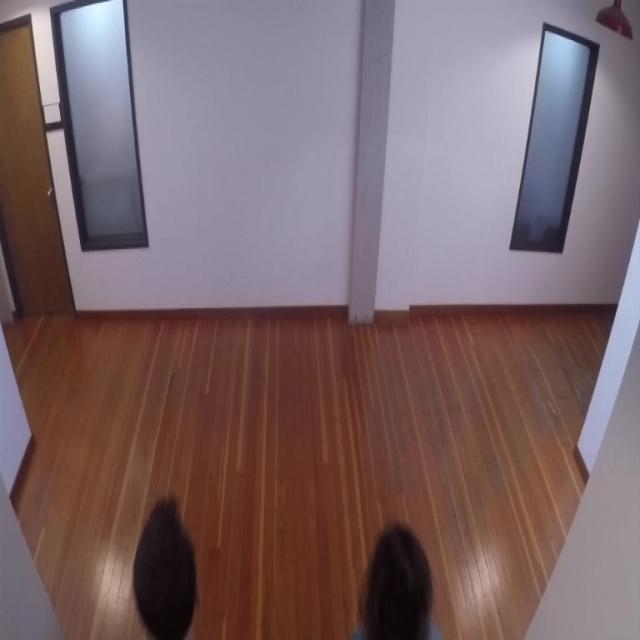Stupid: (352, 520, 439, 639), (132, 495, 199, 638)
